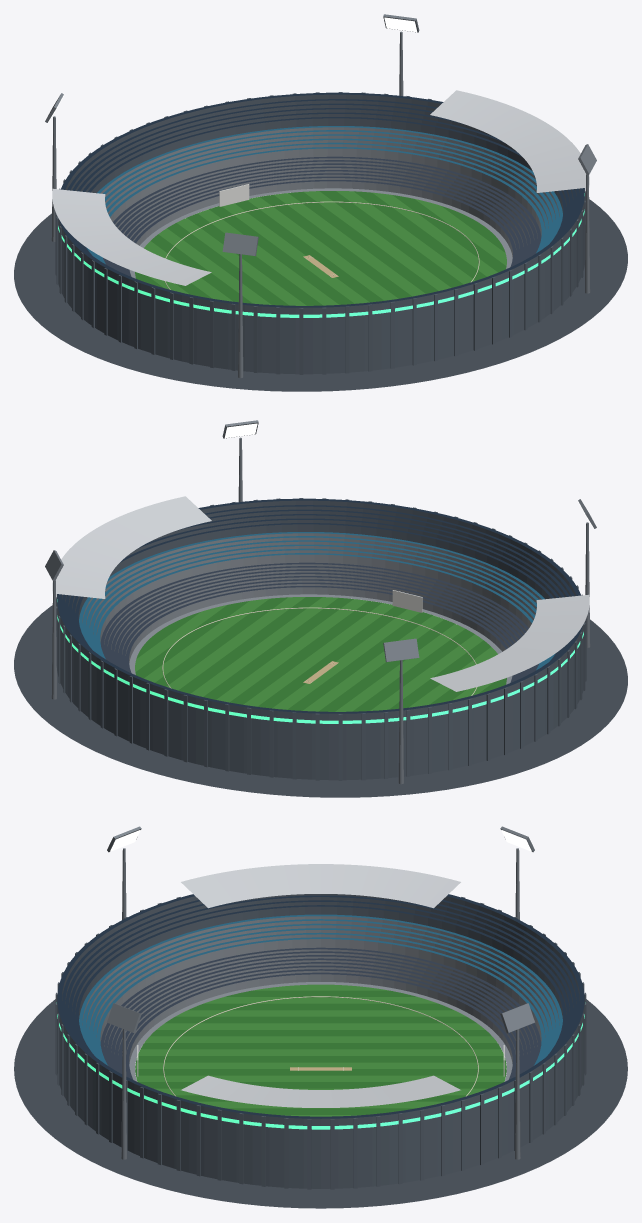
Rendered from stadium.glb.
3 renders of one model, top to bottom at view 1: azimuth 30°, elevation 25°; view 2: azimuth 150°, elevation 25°; view 3: azimuth 270°, elevation 25°, orthographic. The views are drawn at different scales.
Parts seen in each view (by area): view 1: StandUpper, Outfield, Concourse, StandMiddle, StandLower, Fins, RoofEast, RoofWest, Ribbon, Apron, TowerHead2, Tower2 (+2 smaller); view 2: StandUpper, Outfield, Concourse, StandMiddle, StandLower, Fins, RoofEast, RoofWest, Ribbon, Apron, TowerHead1, Tower1 (+2 smaller); view 3: StandUpper, Outfield, Concourse, StandMiddle, StandLower, Fins, RoofWest, RoofEast, Apron, Ribbon, TowerHead0, TowerHead3 (+3 smaller).
Boxes of the visible parts, x1,y1,x2,y2 form: StandUpper: [57, 92, 584, 374]; Outfield: [135, 191, 506, 305]; Concourse: [14, 199, 627, 391]; StandMiddle: [86, 126, 562, 264]; StandLower: [103, 156, 541, 276]; Fins: [55, 92, 585, 374]; RoofEast: [430, 90, 589, 192]; RoofWest: [52, 188, 211, 285]; Ribbon: [58, 193, 584, 317]; Apron: [129, 188, 512, 278]; TowerHead2: [222, 232, 258, 256]; Tower2: [238, 254, 243, 378]; StandUpper: [57, 498, 584, 780]; Outfield: [135, 597, 506, 711]; Concourse: [14, 605, 627, 797]; StandMiddle: [79, 532, 555, 670]; StandLower: [100, 562, 538, 682]; Fins: [56, 498, 586, 780]; RoofEast: [52, 496, 211, 598]; RoofWest: [430, 594, 589, 691]; Ribbon: [57, 599, 583, 723]; Apron: [129, 594, 512, 684]; TowerHead1: [383, 638, 419, 662]; Tower1: [398, 660, 403, 784]; StandUpper: [57, 894, 584, 1188]; Outfield: [135, 984, 506, 1116]; Concourse: [14, 999, 627, 1208]; StandMiddle: [79, 914, 562, 1065]; StandLower: [100, 947, 541, 1079]; Fins: [55, 897, 586, 1189]; RoofWest: [181, 864, 460, 908]; RoofEast: [181, 1075, 460, 1107]; Apron: [129, 982, 512, 1081]; Ribbon: [56, 1002, 585, 1129]; TowerHead0: [500, 1003, 534, 1033]; TowerHead3: [107, 1003, 141, 1033].
Bounding box in the file's own units: 256 × 63.81 × 238.
